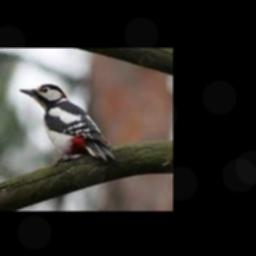Woodpecker: (18, 84, 115, 166)
